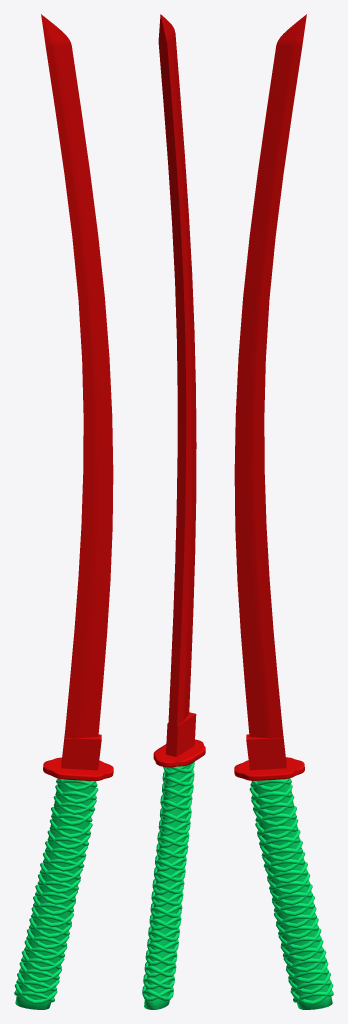
Rendered from _atanaFinal.fbx.
3 views of the same model, side by side, from view 1: azimuth 90°, elevation 25°; view 2: azimuth 150°, elevation 25°; view 3: azimuth 270°, elevation 25° (orthographic).
Visible parts, largest first — view 1: sword; view 2: sword; view 3: sword.
Boxes of the visible parts, bbox=[...] form: sword: bbox=[14, 14, 113, 1009]; sword: bbox=[142, 14, 205, 1009]; sword: bbox=[234, 14, 333, 1009].
Bounding box in the file's own units: 3.93 × 107 × 9.71.
